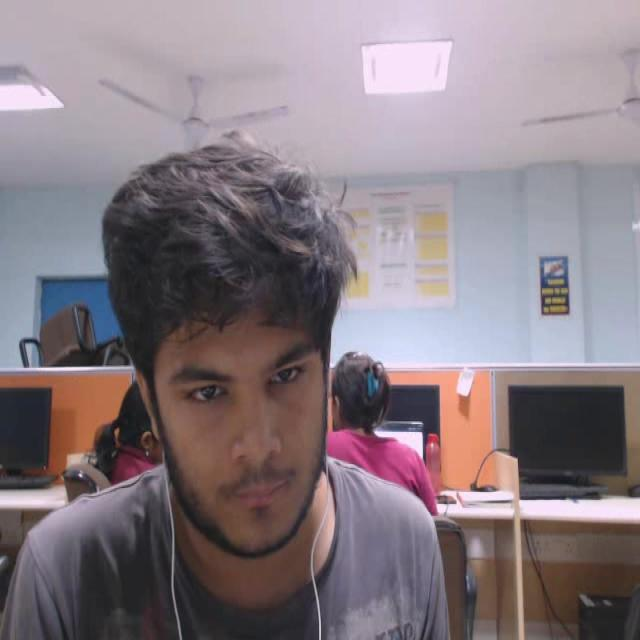Engaged: (68, 114, 390, 576)
